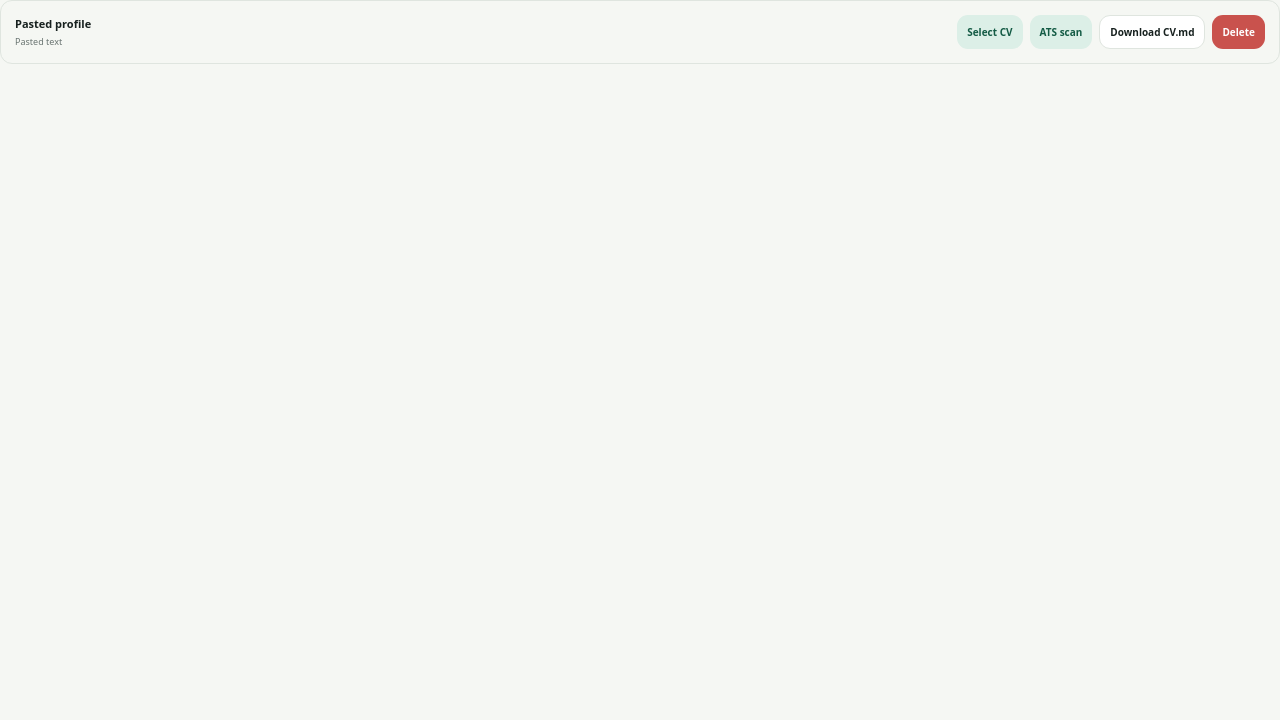
Test: CvLibrary › keeps the confirmation open and shows an error when deletion fails
The image size is (1280, 720).
Click the button with aria-label "Delete CV for Pasted profile": (1239, 32) [1212,15,1265,49]
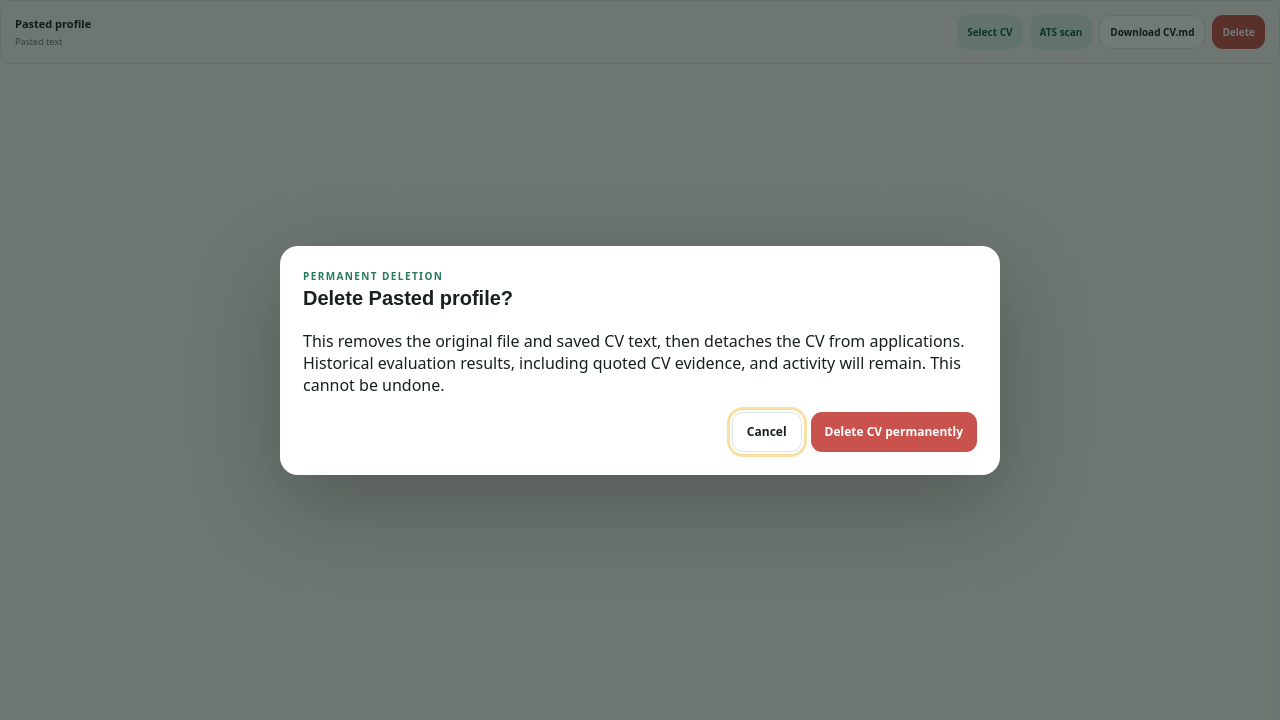
Click the button "Delete CV permanently": (894, 432) [811,412,977,452]
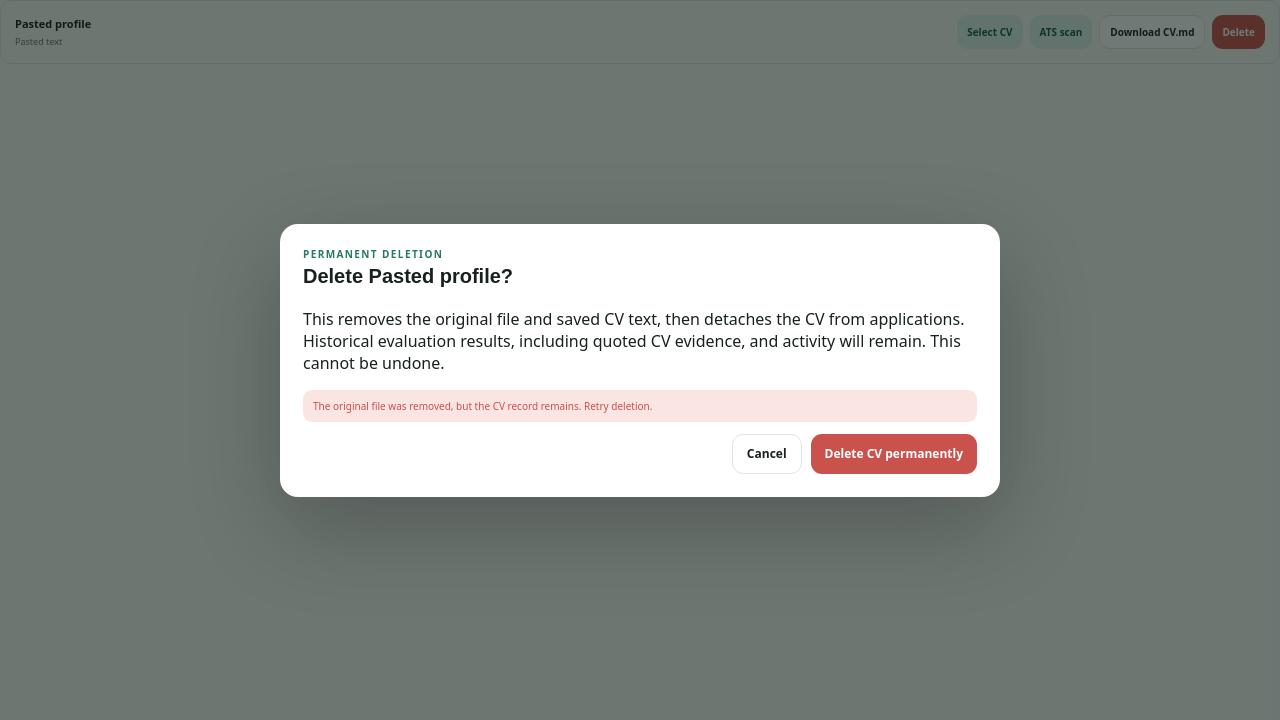
Result: the dialog "Delete Pasted profile?" is shown at [280,224,1000,496]
Result: the message reads "The original file was removed, but the CV record remains. Retry deletion." at [313,398,652,412]
Click the button "Cancel": (767, 454) [732,434,802,474]
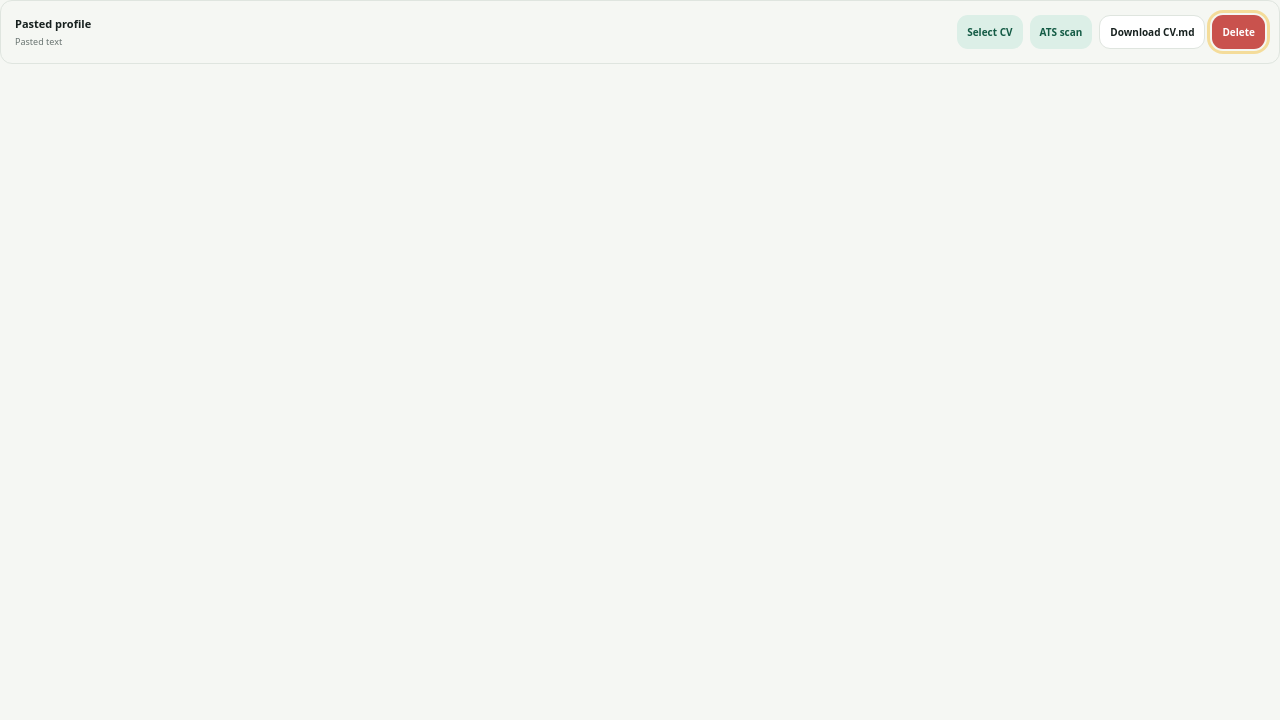
Result: the message "The original file was removed, but the CV record remains. Retry deletion." is gone
